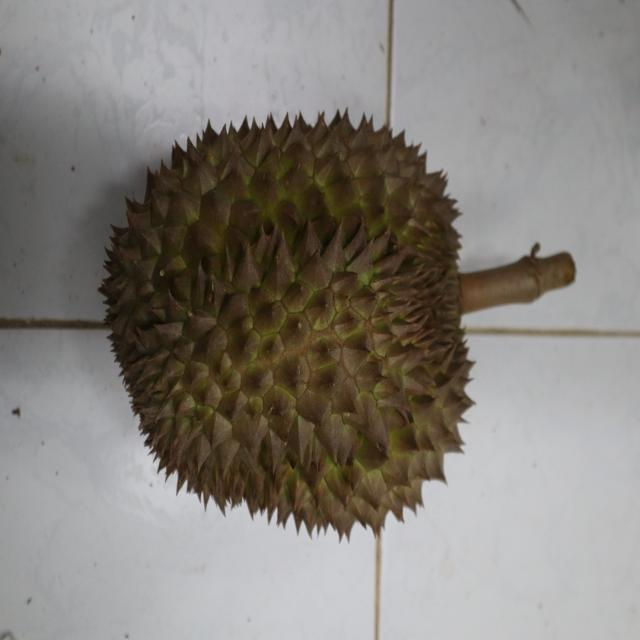mature: (97, 107, 477, 540)
